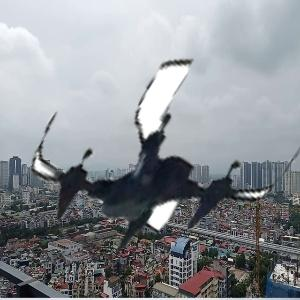drone: (38, 29, 290, 281)
